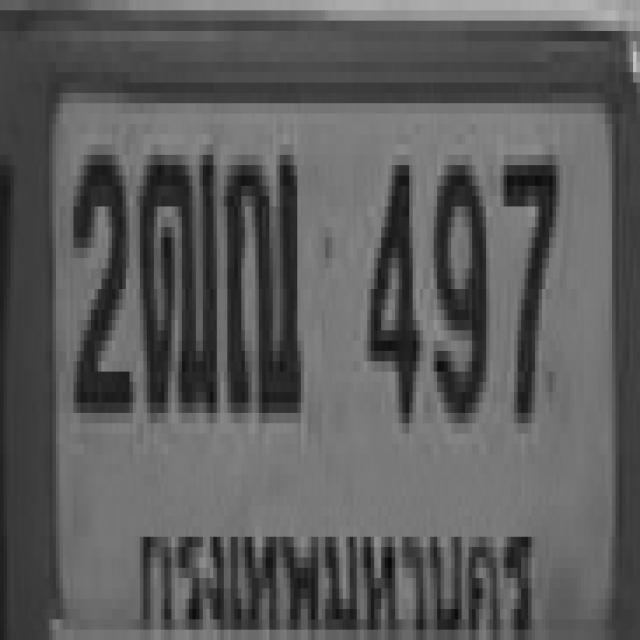2: (70, 144, 129, 402)
27ThorPhuThao: (136, 139, 214, 408)
28NorNen: (222, 143, 311, 439)
4: (364, 144, 416, 413)
7: (500, 144, 556, 413)
9: (428, 155, 484, 413)
Bangkok: (131, 492, 543, 640)
